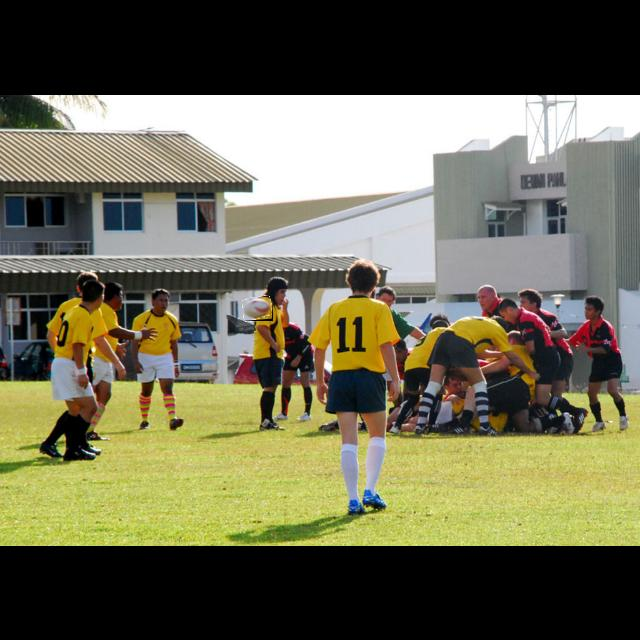Football: (243, 297, 273, 321)
